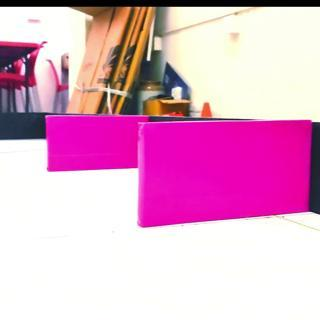xparking: (140, 122, 309, 221), (45, 114, 137, 168)
